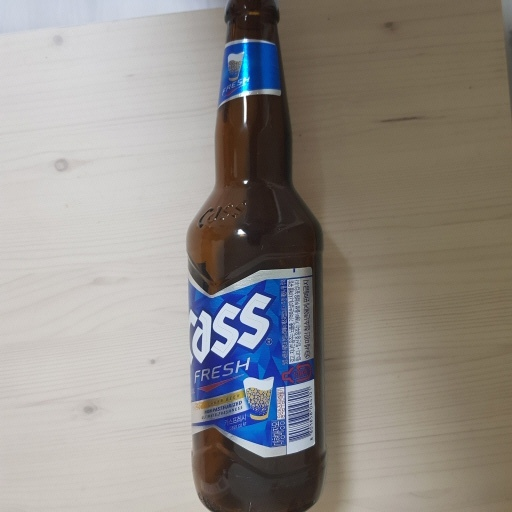Glass_1: (183, 1, 326, 512)
